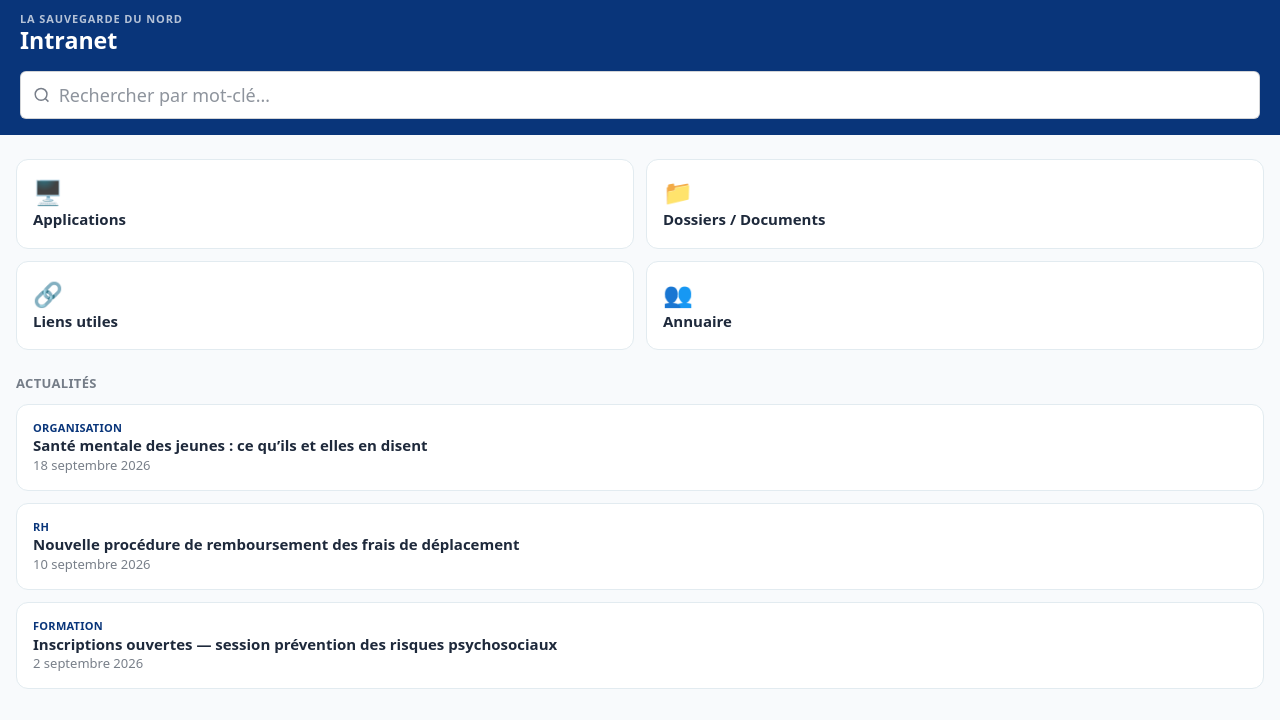
Scenario: App — écran d’accueil (P1-1) › filters rubrics and actualités as the visitor types in the search bar
This screenshot has width=1280, height=720.
Step 1. Type "formation" into the search field named "Rechercher dans l'intranet" → (653, 95), box [59, 72, 1247, 118]
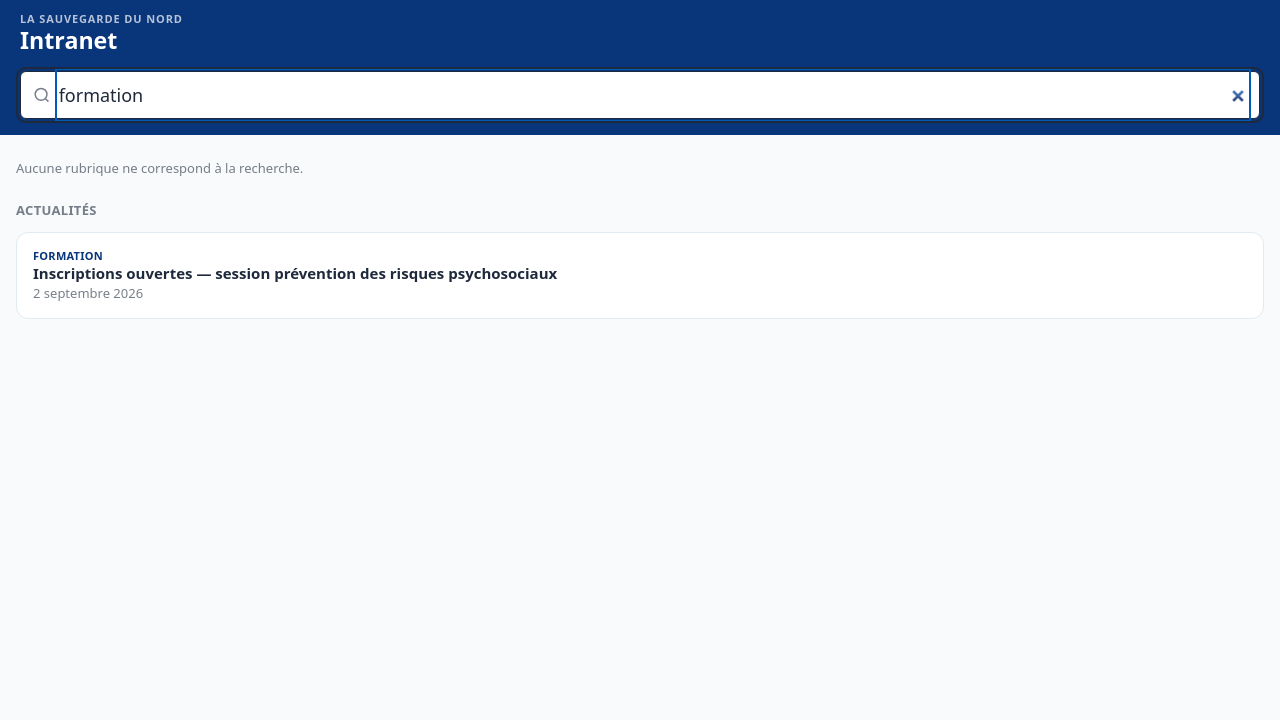
Expected: the text "Inscriptions ouvertes" is shown, [33, 263, 557, 283]
Now the button "Applications" is gone
